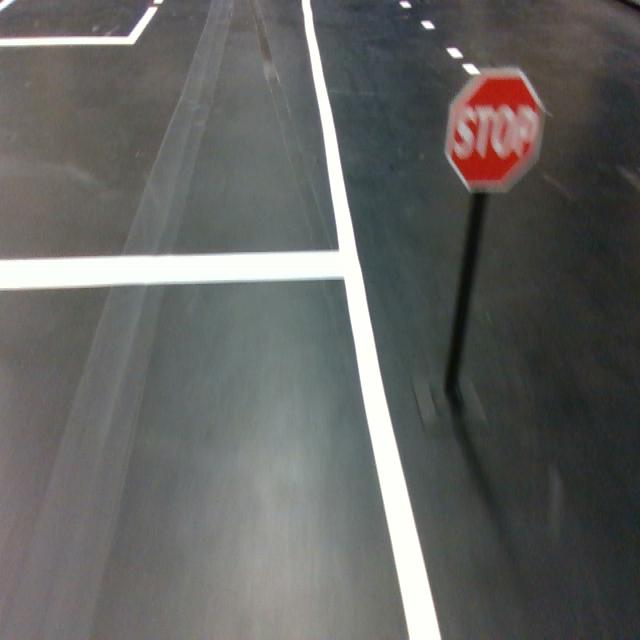stop-sign: (444, 65, 546, 195)
